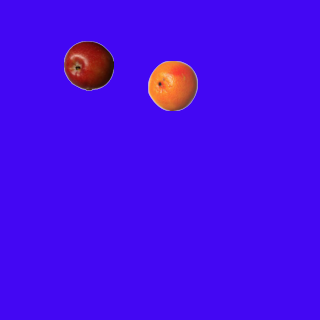Apple Braeburn: (63, 40, 113, 90)
Grapefruit Pink: (147, 60, 197, 110)
